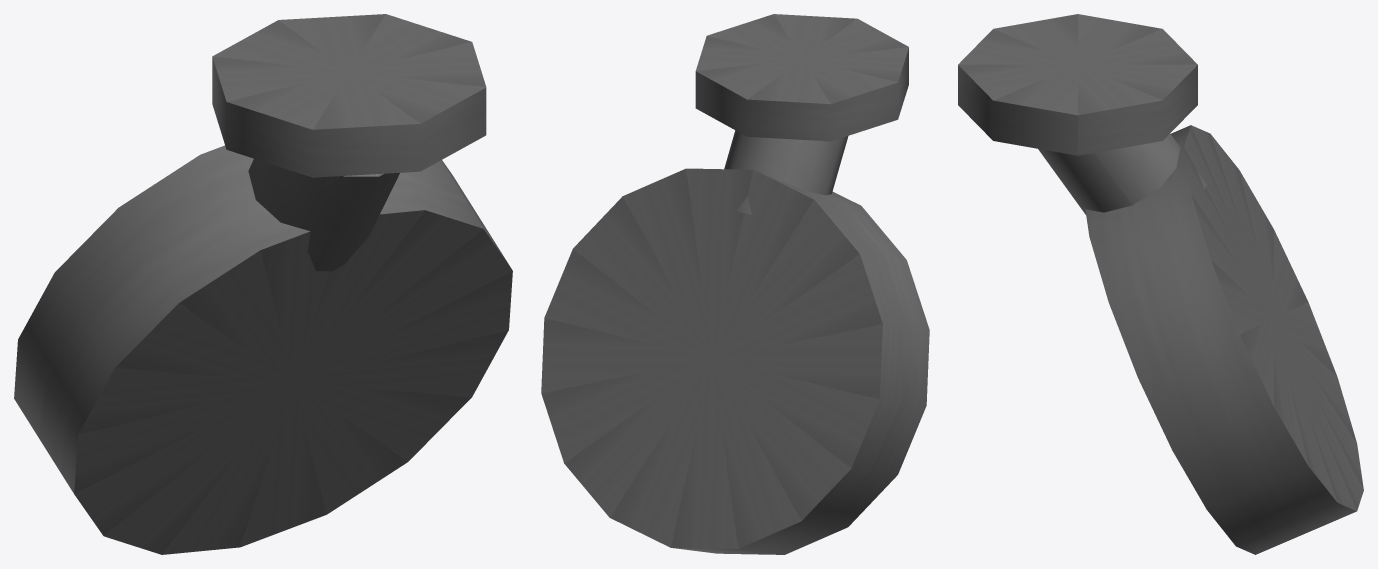
Rendered from mastarmcurve_6x2_c2_up.obj.
The picture shows the model from 3 angles, left to right: view 1: azimuth 30°, elevation 25°; view 2: azimuth 150°, elevation 25°; view 3: azimuth 270°, elevation 25°; orthographic projection. The views are drawn at different scales.
Visible parts, largest first — view 1: mastarm_6x2_c2_up; view 2: mastarm_6x2_c2_up; view 3: mastarm_6x2_c2_up.
Part boxes in pixels (left/top/right/bottom): mastarm_6x2_c2_up: left=14, top=14, right=512, bottom=554; mastarm_6x2_c2_up: left=541, top=14, right=929, bottom=554; mastarm_6x2_c2_up: left=958, top=14, right=1363, bottom=554.
Bounding box in the file's own units: 0.7012 × 0.8636 × 0.6769.
